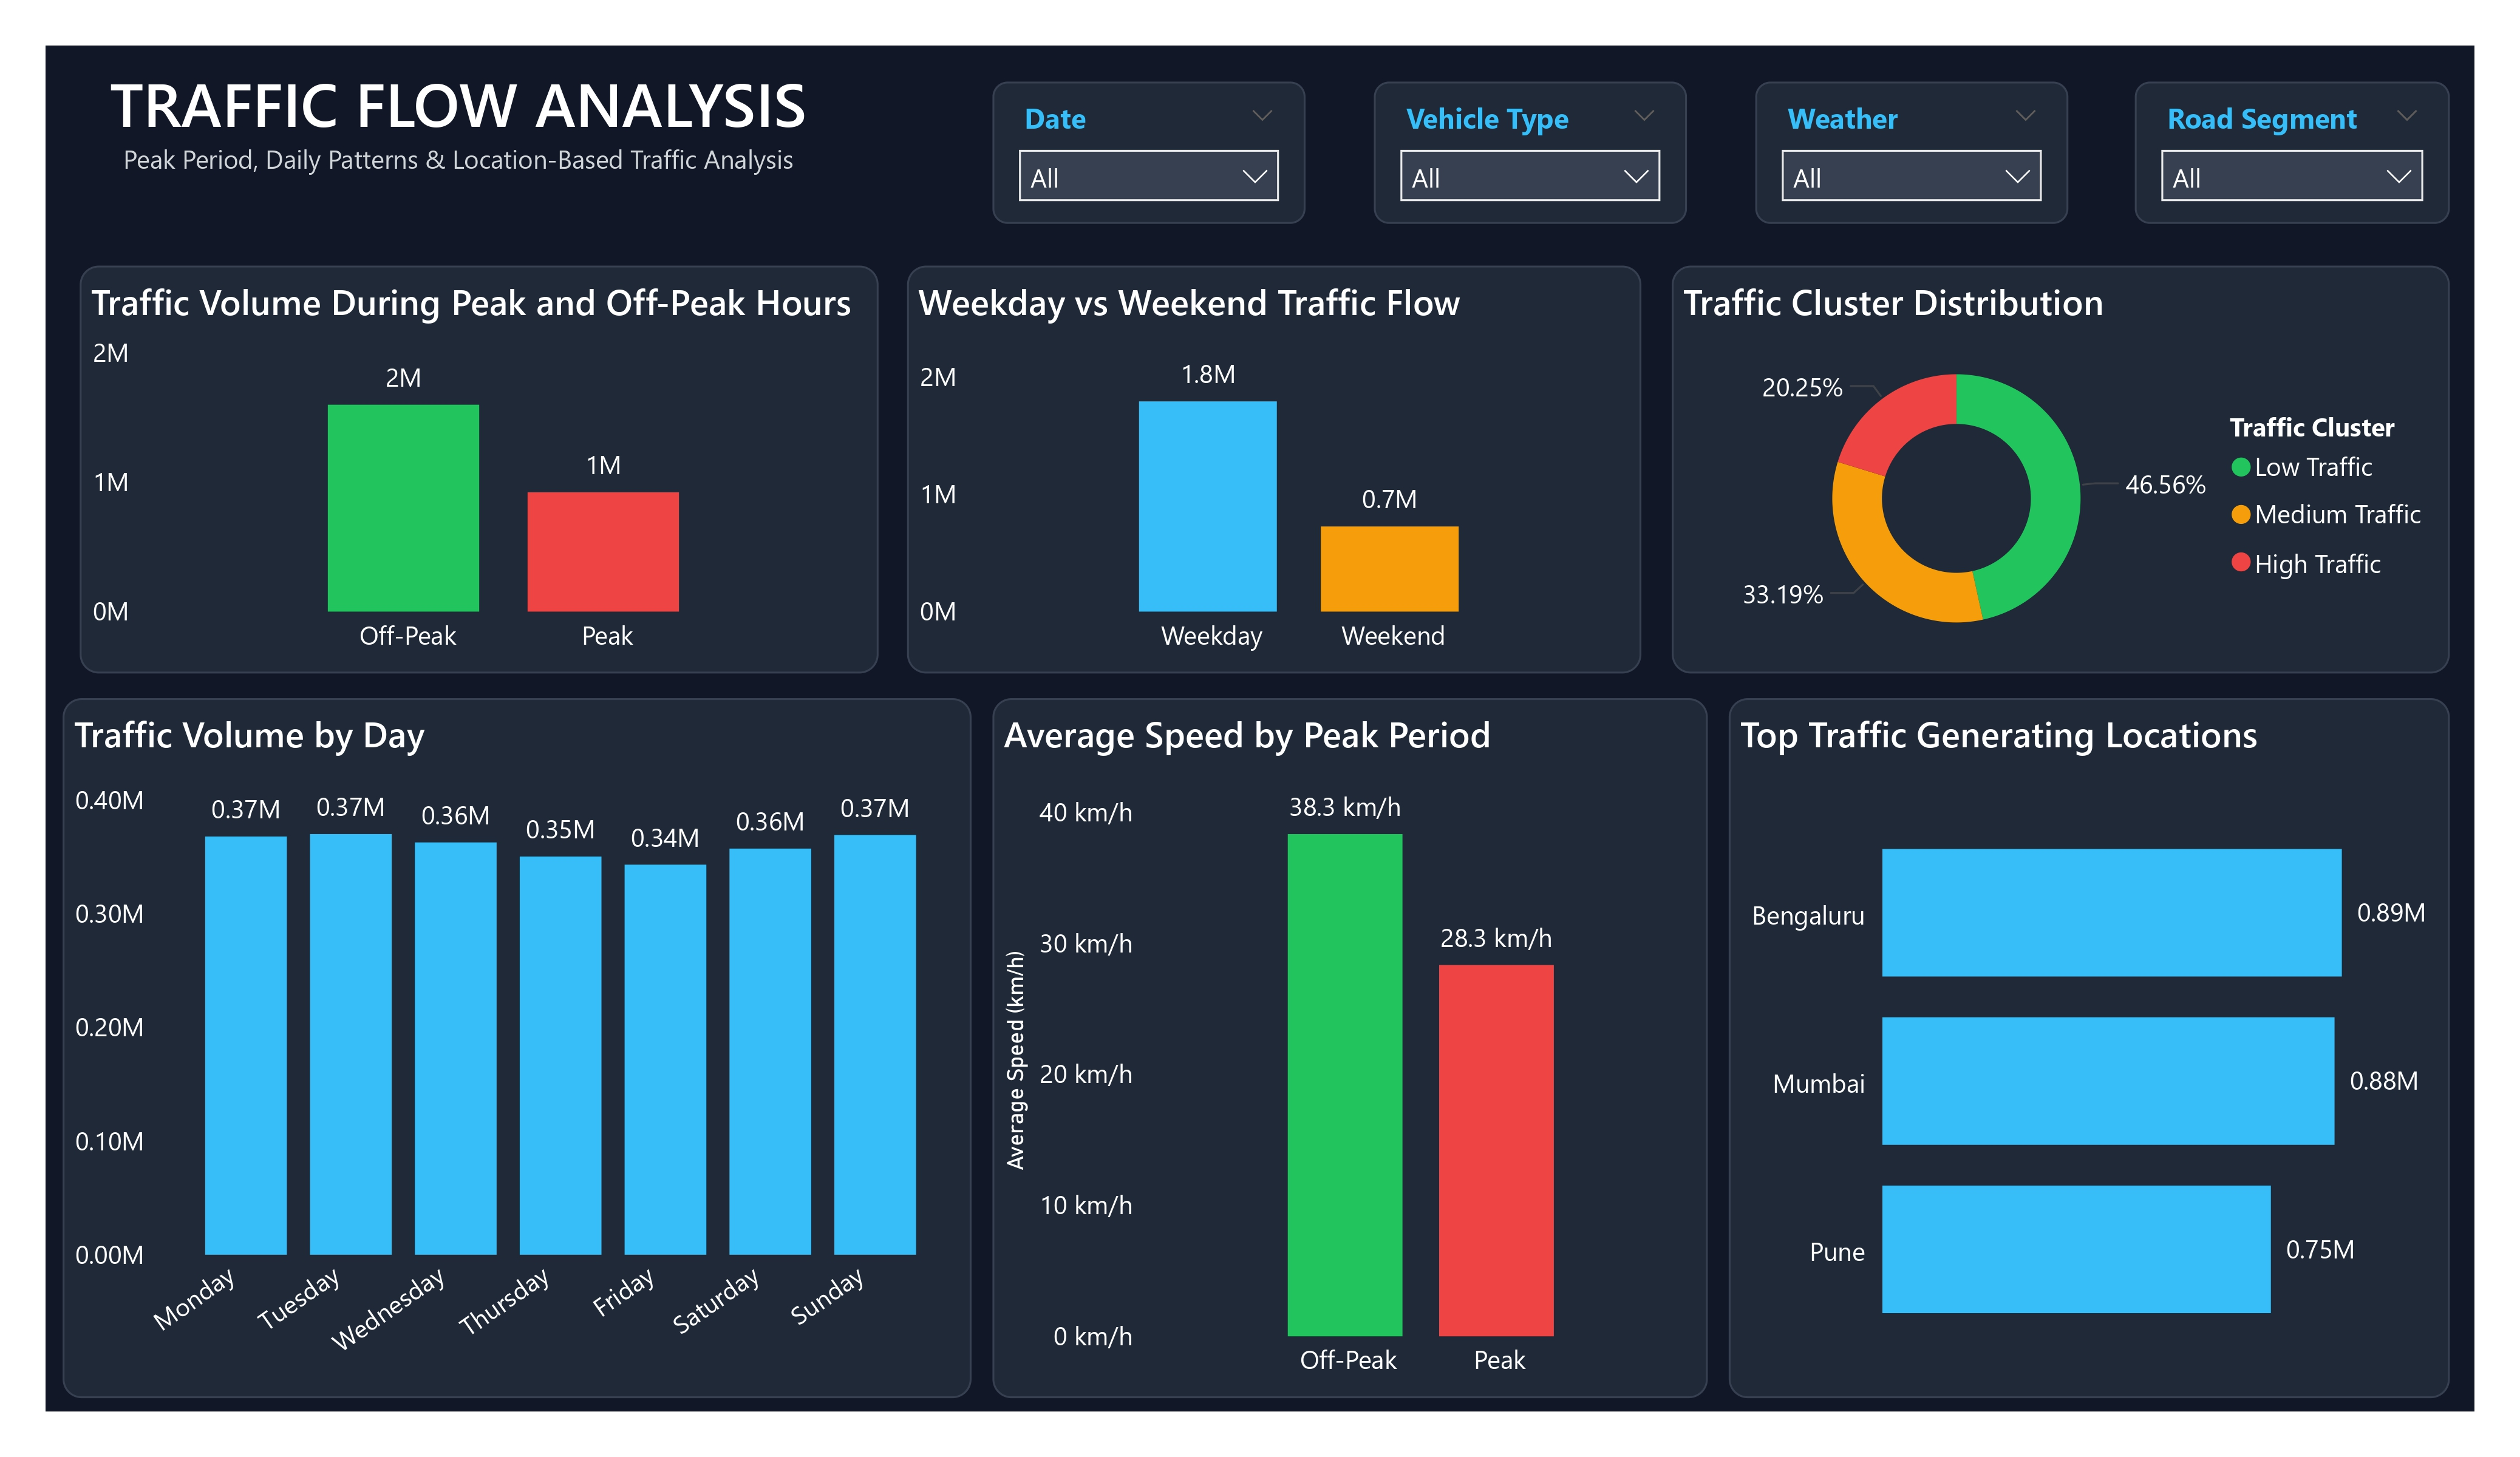

Layout of this report page (visuals, bound fields, positions):
{"tool":"powerbi","page":{"name":"Traffic Flow","canvas":[1280,720],"ordinal":1},"visuals":[{"type":"textbox","box":[8.9,2.5,417.6,105.7],"z":0},{"type":"slicer","fields":{"Values":["Traffic_Data.Date"]},"box":[499,19.1,165,75],"z":1000},{"type":"slicer","fields":{"Values":["Traffic_Data.Vehicle_Type"]},"box":[699.6,19.1,165.5,75],"z":2000},{"type":"slicer","fields":{"Values":["Traffic_Data.Weather"]},"box":[900.6,19.1,165,75],"z":3000},{"type":"slicer","fields":{"Values":["Traffic_Data.Road_Segment"]},"box":[1101.2,19.1,165.5,75],"z":4000},{"type":"clusteredColumnChart","title":"Traffic Volume During Peak and Off-Peak Hours","fields":{"Category":["Traffic_Data.Peak_Period"],"Y":["Sum(Traffic_Data.Traffic_Volume)"]},"box":[17.8,115.8,421.4,215.1],"z":5000},{"type":"clusteredColumnChart","title":"Weekday vs Weekend Traffic Flow","fields":{"Category":["Traffic_Data.Is_Weekend"],"Y":["Sum(Traffic_Data.Traffic_Volume)"]},"box":[454.5,115.8,387,215.1],"z":6000},{"type":"clusteredColumnChart","title":"Traffic Volume by Day","fields":{"Category":["Dim_Day.Day_Name"],"Y":["Sum(Traffic_Data.Traffic_Volume)"]},"box":[8.9,343.7,478.7,369.2],"z":7000},{"type":"clusteredBarChart","title":"Top Traffic Generating Locations","fields":{"Category":["Traffic_Data.Location"],"Y":["Sum(Traffic_Data.Traffic_Volume)"]},"box":[887.3,343.7,379.4,369.2],"z":8000},{"type":"donutChart","title":"Traffic Cluster Distribution","fields":{"Category":["Traffic_Data.Traffic_Cluster"],"Y":["Sum(Traffic_Data.Traffic_Volume)"]},"box":[856.8,115.8,409.9,215.1],"z":9000},{"type":"clusteredColumnChart","title":"Average Speed by Peak Period","fields":{"Category":["Traffic_Data.Peak_Period"],"Y":["Avg(Traffic_Data.Avg_Speed_kmph)"]},"box":[499,343.7,376.8,369.2],"z":10000}]}

Visuals, with their boxes on the page's 1280x720 design canvas (x1, y1, x2, y2). These are canvas units, not pixel positions in the 2520x1457 screenshot, which may show the page scaled, cropped or inside an application window:
textbox: select_region(9, 2, 426, 108)
slicer - Traffic_Data.Date: select_region(499, 19, 664, 94)
slicer - Traffic_Data.Vehicle_Type: select_region(700, 19, 865, 94)
slicer - Traffic_Data.Weather: select_region(901, 19, 1066, 94)
slicer - Traffic_Data.Road_Segment: select_region(1101, 19, 1267, 94)
"Traffic Volume During Peak and Off-Peak Hours" clusteredColumnChart: select_region(18, 116, 439, 331)
"Weekday vs Weekend Traffic Flow" clusteredColumnChart: select_region(454, 116, 842, 331)
"Traffic Volume by Day" clusteredColumnChart: select_region(9, 344, 488, 713)
"Top Traffic Generating Locations" clusteredBarChart: select_region(887, 344, 1267, 713)
"Traffic Cluster Distribution" donutChart: select_region(857, 116, 1267, 331)
"Average Speed by Peak Period" clusteredColumnChart: select_region(499, 344, 876, 713)
